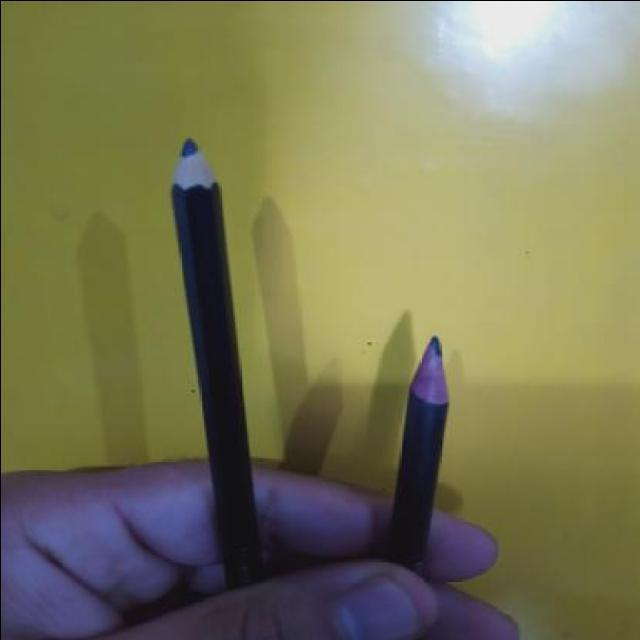Pencil: (397, 328, 463, 418), (162, 128, 230, 206)
